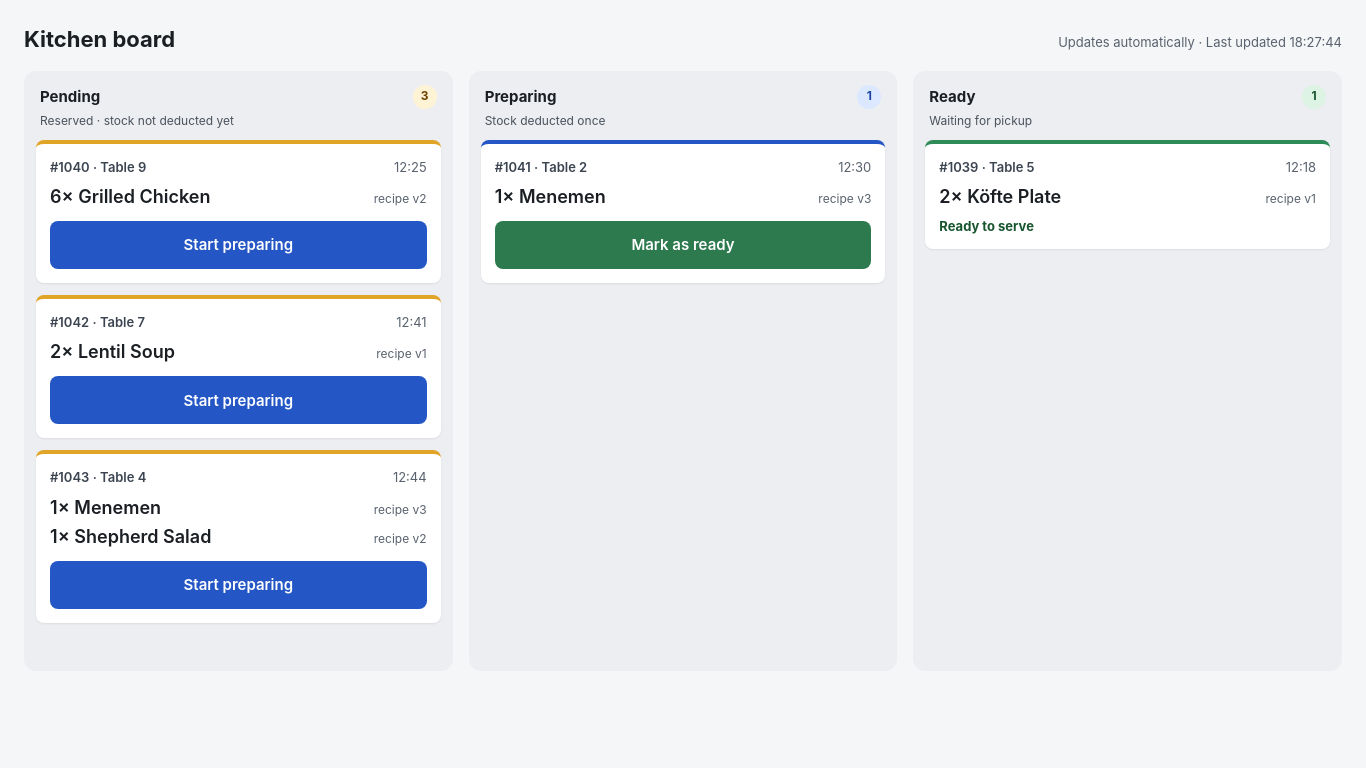
Test case: KitchenBoardPage › uses a Ready-specific message on a 409 for Mark as ready
This screenshot has width=1366, height=768.
Expected: the element "Pending" is shown, [24,71,453,671]
Click the button with aria-label "Mark as ready order #1041". click: (683, 245)
box: [495,221,871,269]
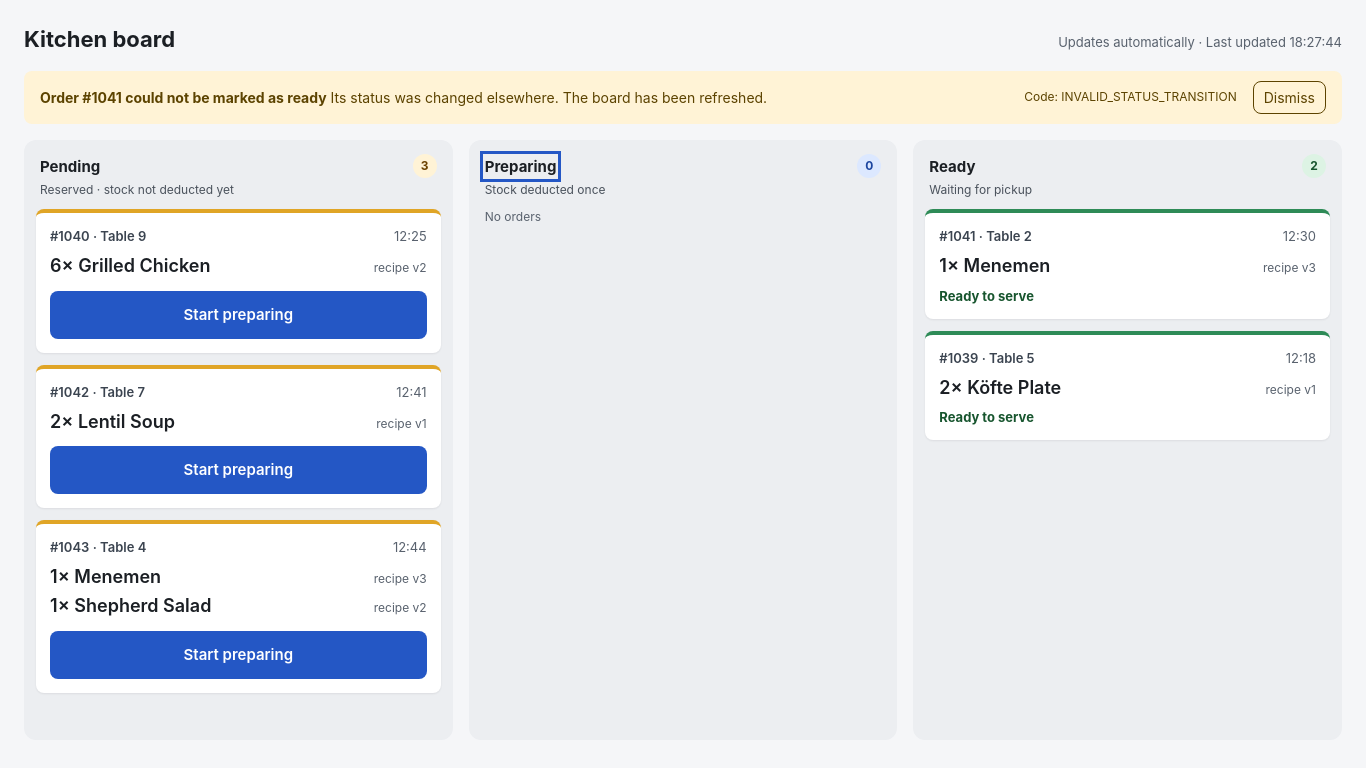
Expected: the message does not show "already started", [24,71,1342,124]
Expected: the message shows "Order #1041 could not be marked as ready", [40,89,327,106]
